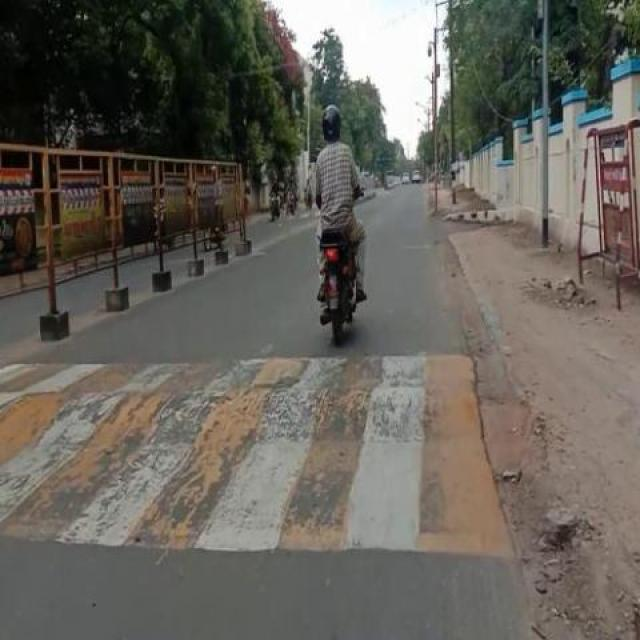Speed Bump: (1, 352, 516, 559)
